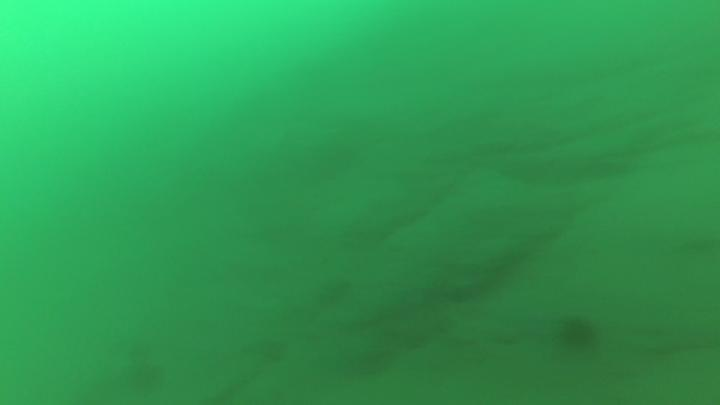echinus: (559, 312, 597, 353)
